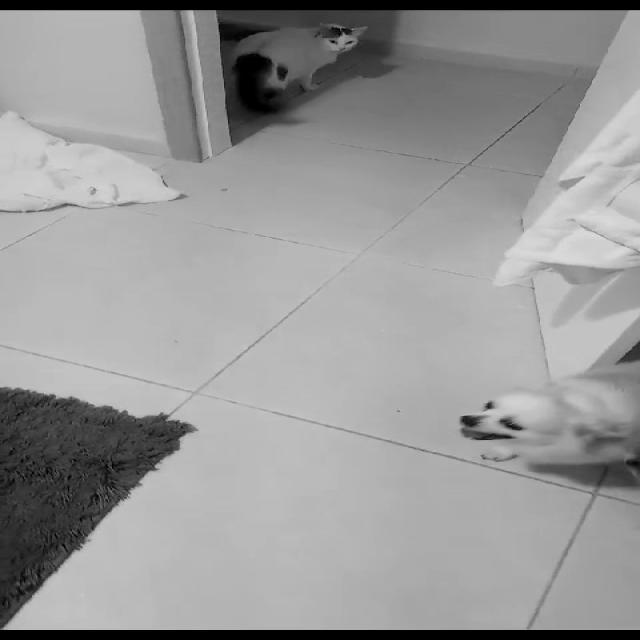Simba: (245, 14, 382, 130)
Theo: (444, 347, 638, 463)
